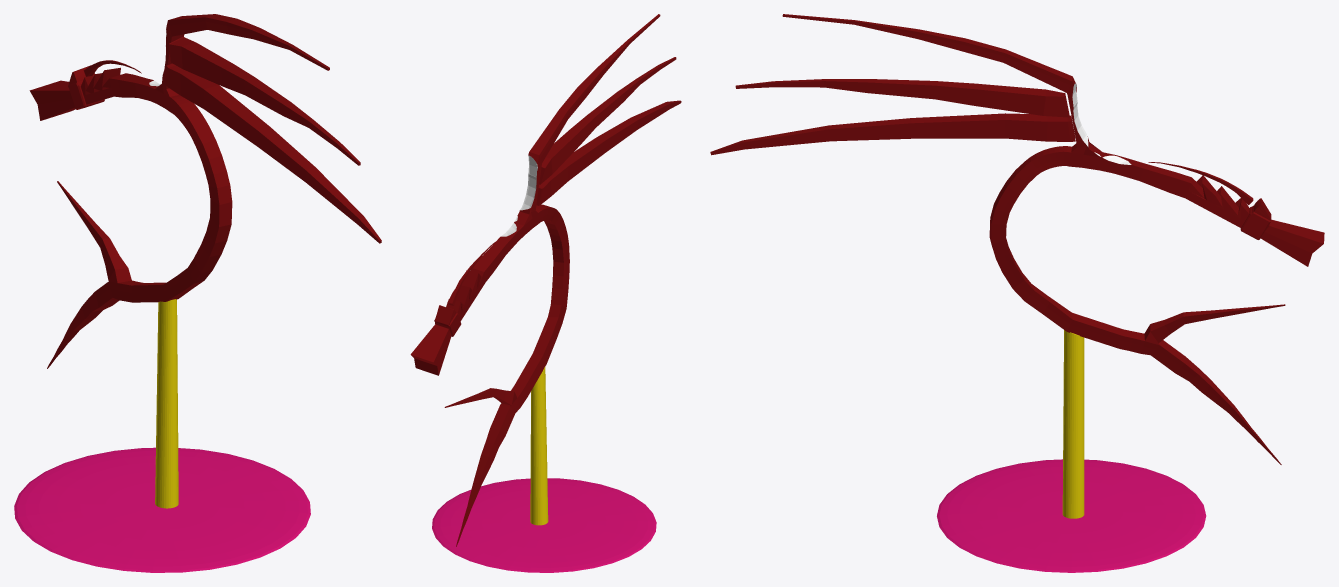
The model's file is kali_linux.glb.
3 renders of one model, left to right at view 1: azimuth 30°, elevation 25°; view 2: azimuth 150°, elevation 25°; view 3: azimuth 270°, elevation 25°, orthographic. The views are drawn at different scales.
Parts seen in each view (by area): view 1: Sphere_3, Cube_0, Cylinder_4; view 2: Cube_0, Sphere_3, Cylinder_4; view 3: Cube_0, Sphere_3, Cylinder_4.
Part boxes in pixels (x1,y1,x2,y2): Sphere_3: (14,447,310,572); Cube_0: (29,14,381,368); Cylinder_4: (155,299,178,508); Cube_0: (410,14,681,546); Sphere_3: (432,478,656,572); Cylinder_4: (530,366,548,525); Cube_0: (710,14,1324,464); Sphere_3: (937,459,1206,572); Cylinder_4: (1062,330,1084,518).
Bounding box in the file's own units: 24.63 × 51.97 × 56.12.
